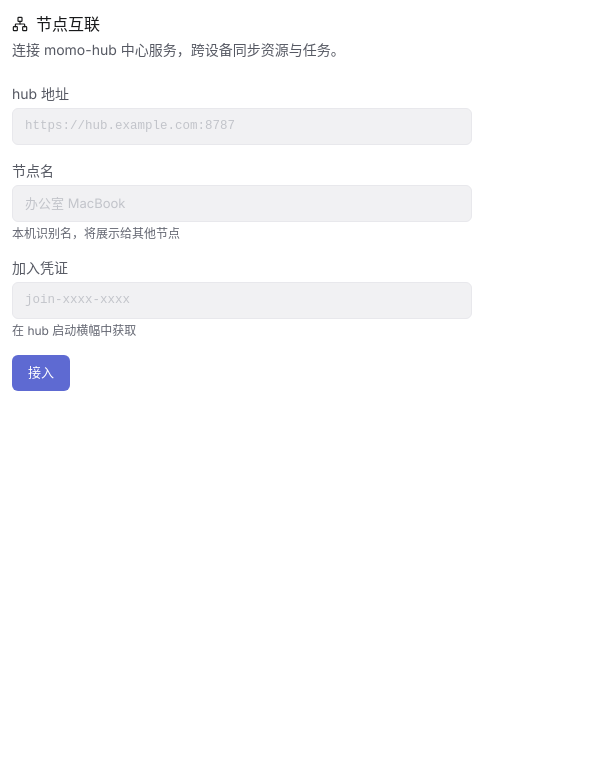
HubSettingsPanel › 未接入：渲染三输入 + 接入按钮；提交调 enroll（trim 后入参），成功后翻到已接入视图
Check: the field labelled "节点名" is shown, box [12,185,472,222]
Check: the password field labelled "加入凭证" is shown, box [12,282,472,319]
Step 1. Type " https://hub.example.com:8787 " into the field labelled "hub 地址" → (242, 126), box [12,108,472,145]
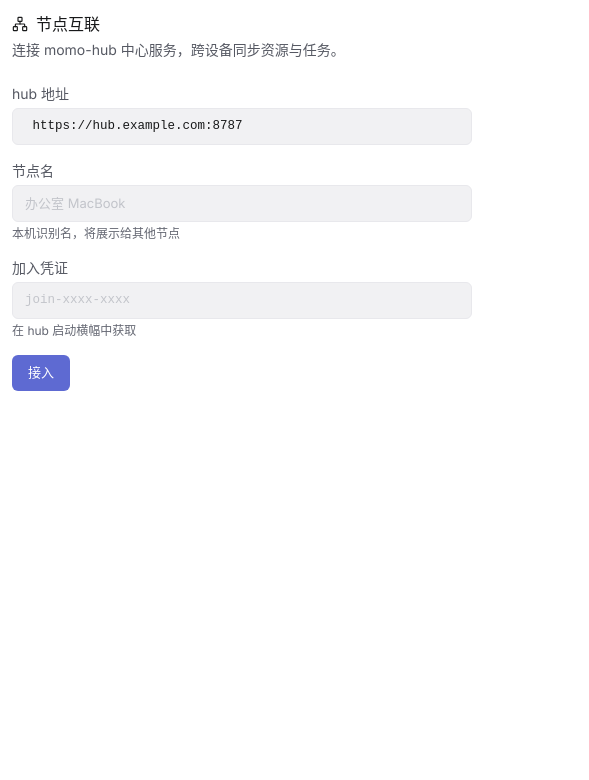
Step 2. Type " 办公室 MacBook " into the field labelled "节点名" → (242, 204), box [12,185,472,222]
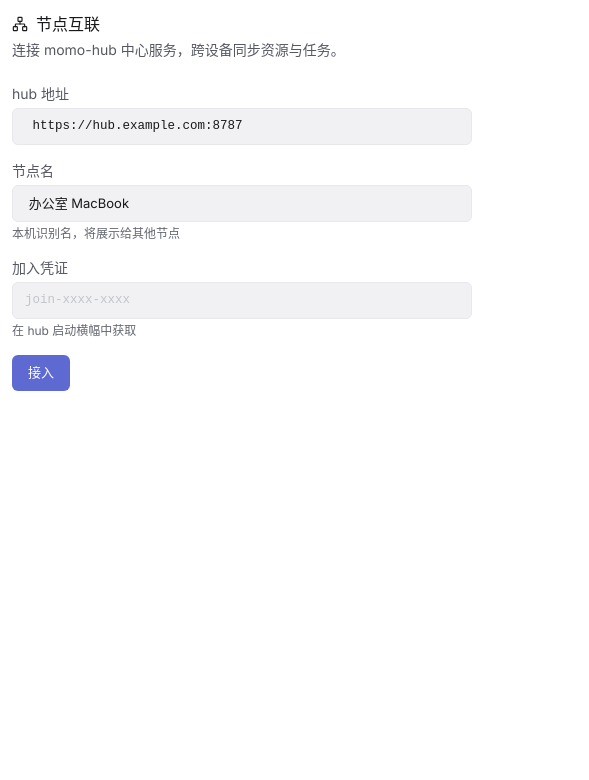
Step 3. Type " join-7f3k-q2x9 " into the password field labelled "加入凭证" → (242, 301), box [12,282,472,319]
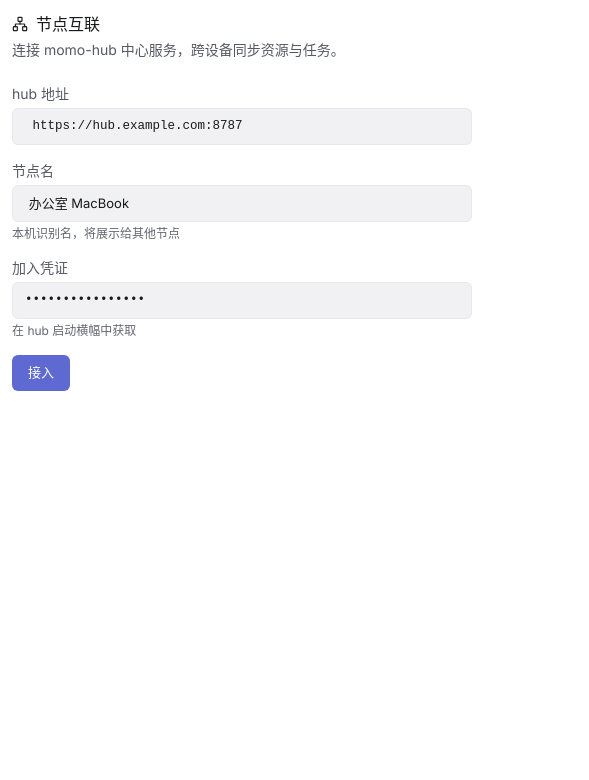
Step 4. Click the button "接入" → (41, 373), box [12,355,70,390]
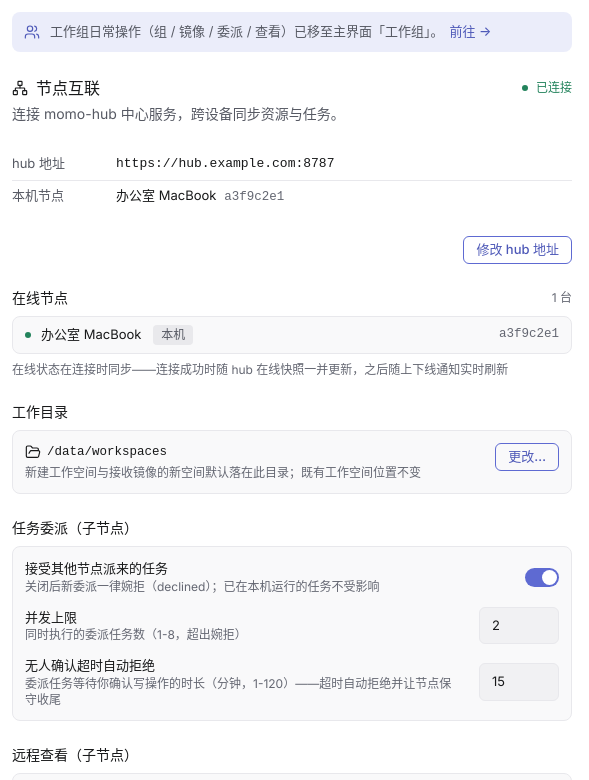
Check: the text "本机节点" is shown, box [12,187,64,203]
